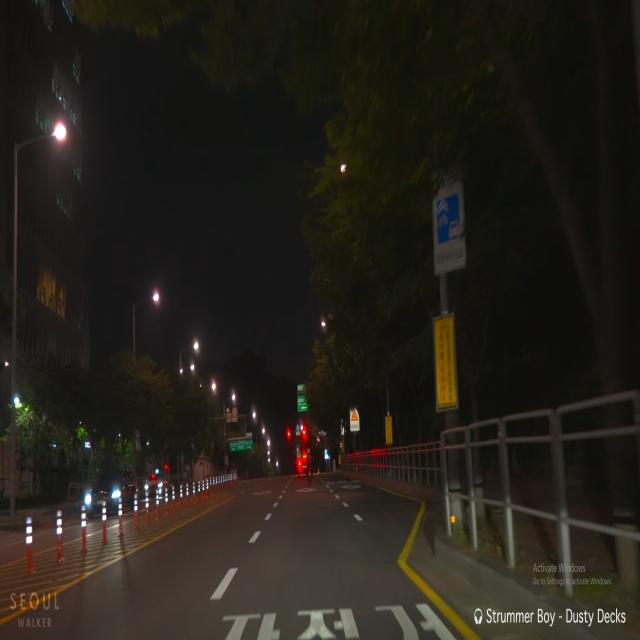headlights: (80, 483, 126, 510)
